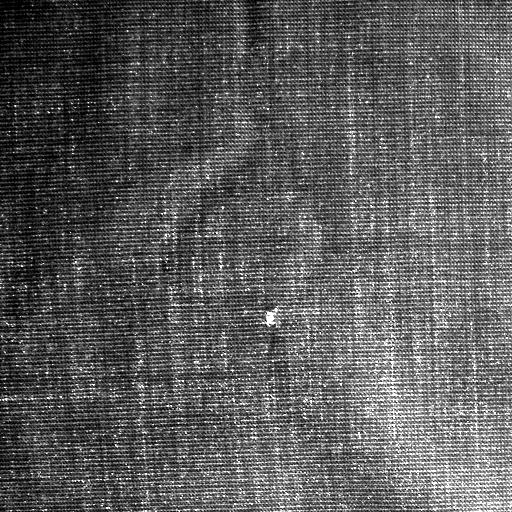fabric_hole: (264, 300, 286, 333)
